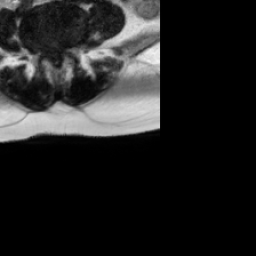CCS_severe_stenosis: (51, 43, 58, 62)
LFS_severe_stenosis: (64, 38, 70, 58)
LLS_severe_stenosis: (58, 42, 64, 60)
RFS_severe_stenosis: (38, 38, 45, 57)
RLS_severe_stenosis: (45, 41, 51, 59)
